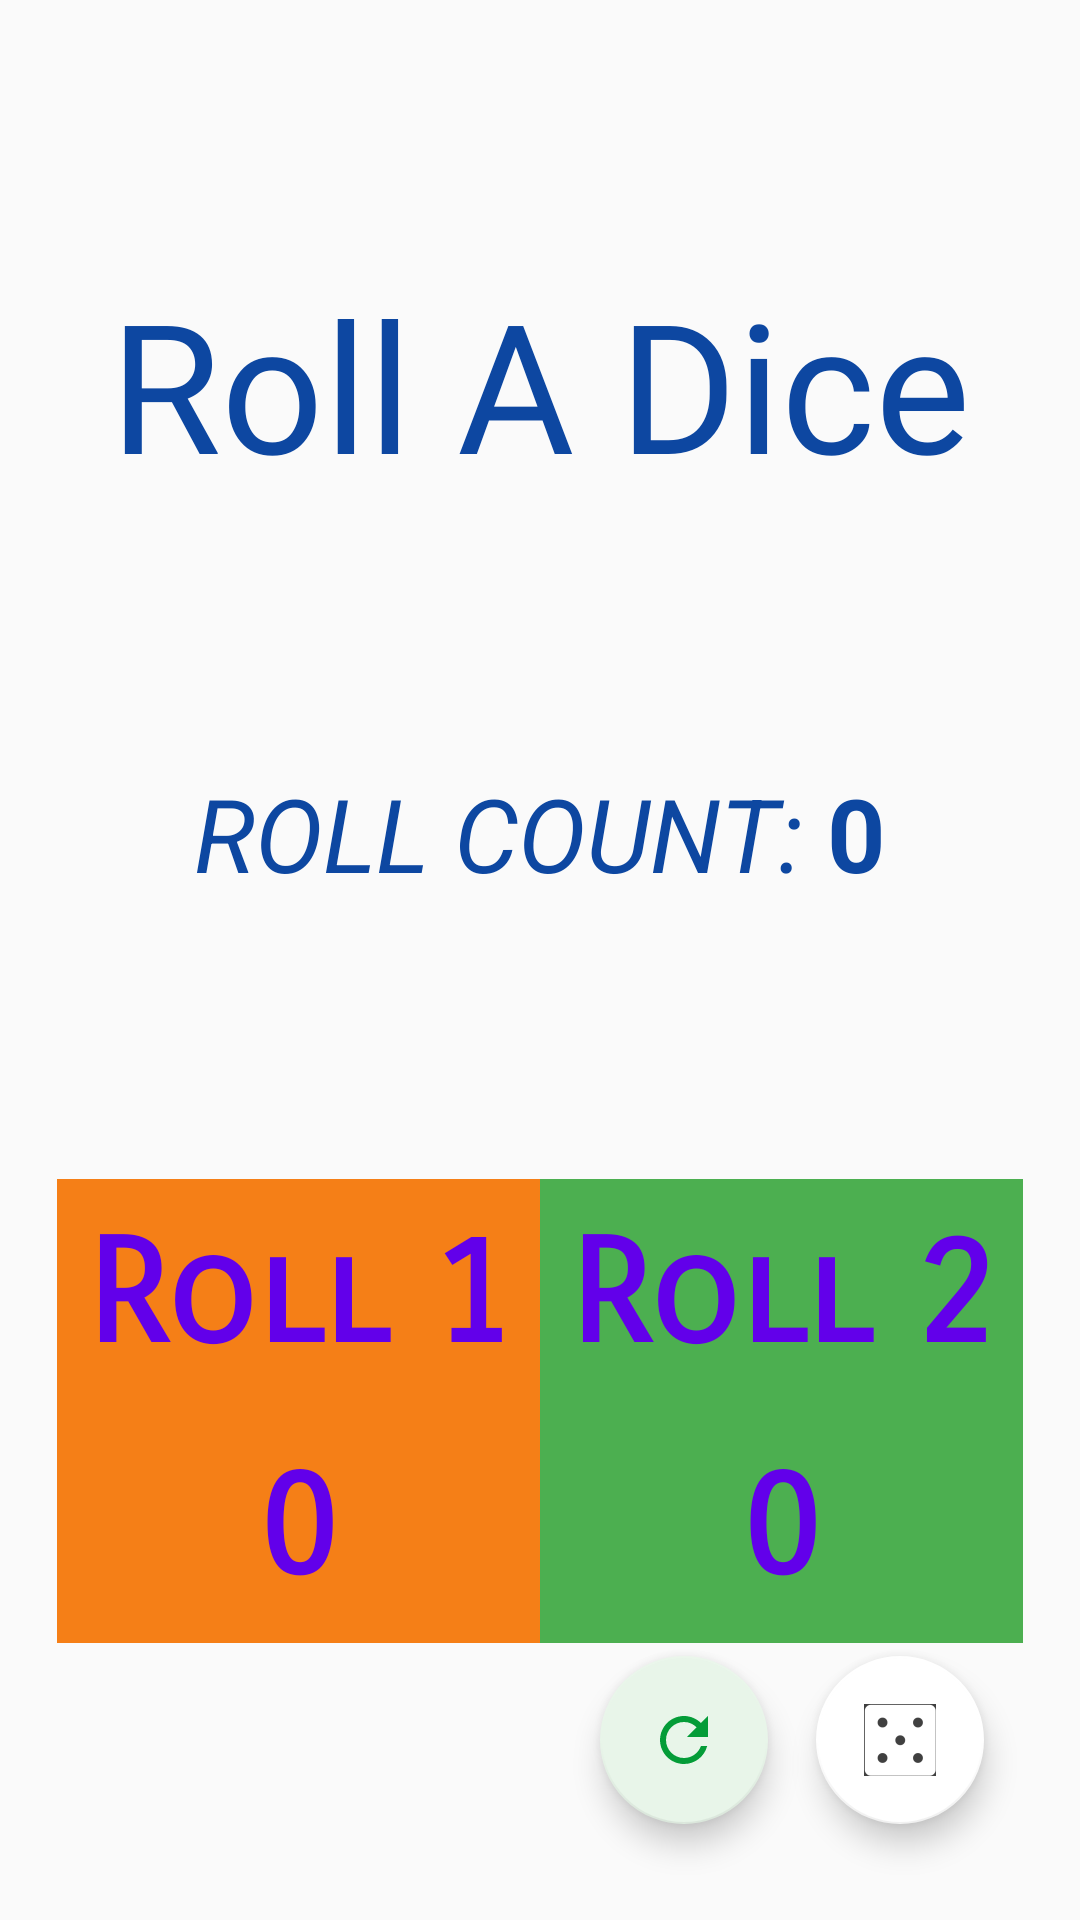

Point at icon controls on the screen. Image size 1080 x 1920, points as [x,y].
casino: [902,1764]
refresh: [684,1740]
